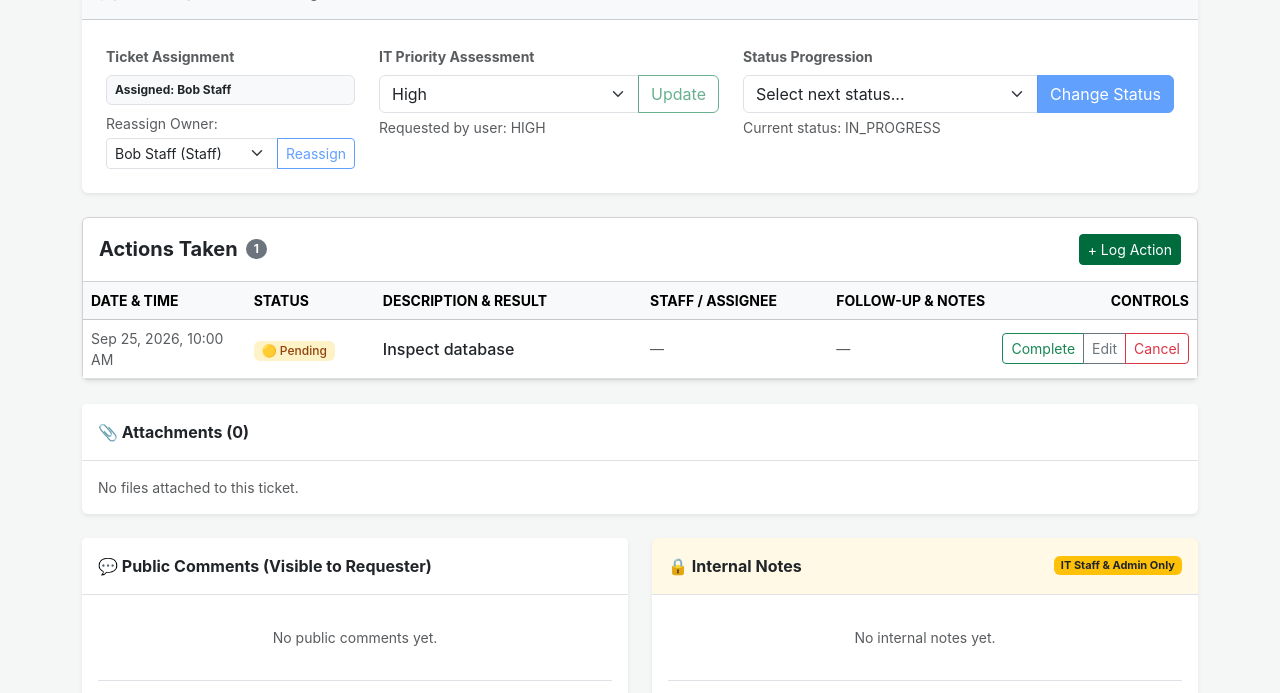
Test case: Phase F2 / L4-P06: Ticket Workflow UI Tests (UI-L4-09, UI-L4-10) › UI-L4-17: complete success remains visible after ticket reload
(page scrolled)
Click the button with test id "complete-action-btn-9": click(1043, 349) 1002,333 -> 1084,364
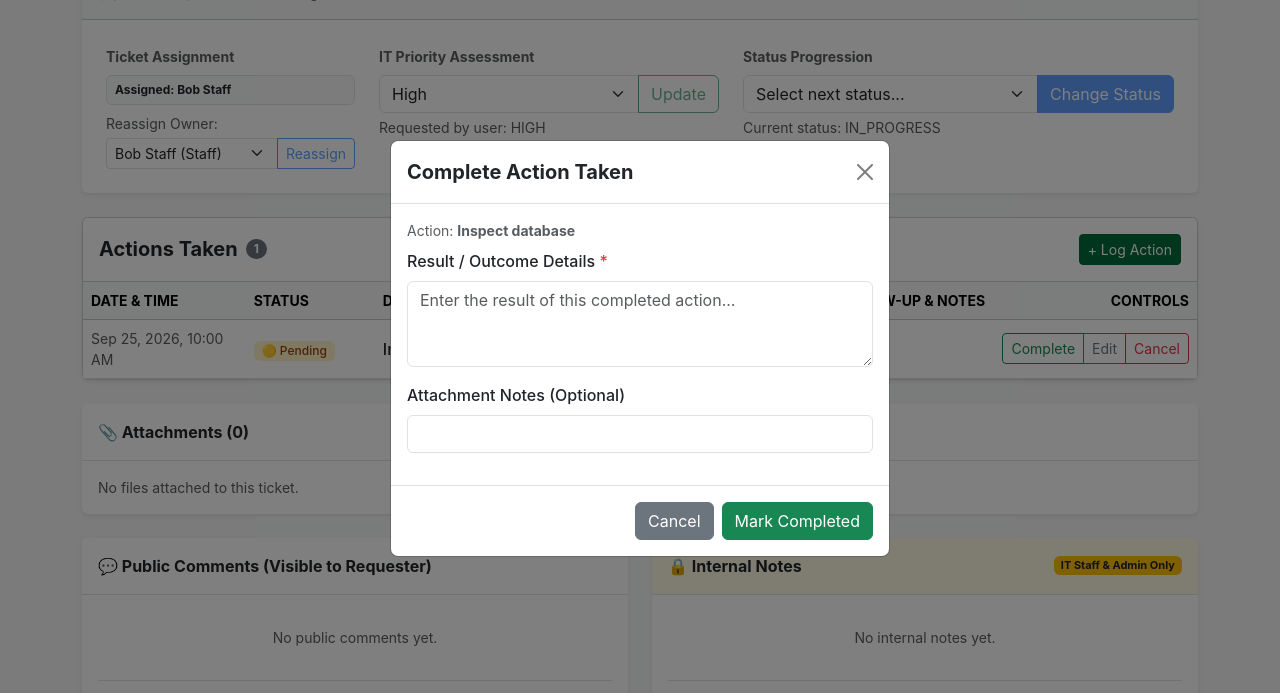
In the text box labelled "Result / Outcome Details *": (640, 324) 407,280 -> 873,366, type "Healthy"
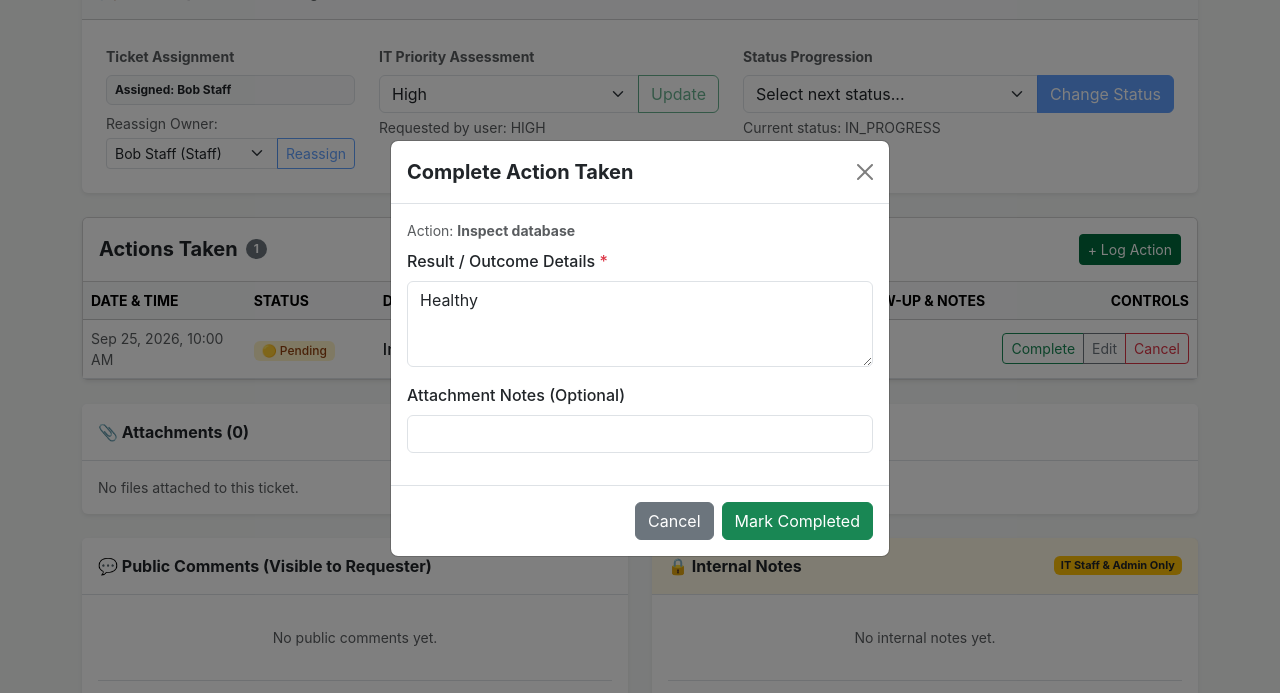
Click the button "Mark Completed": click(797, 520) 722,502 -> 873,540
(page scrolled)
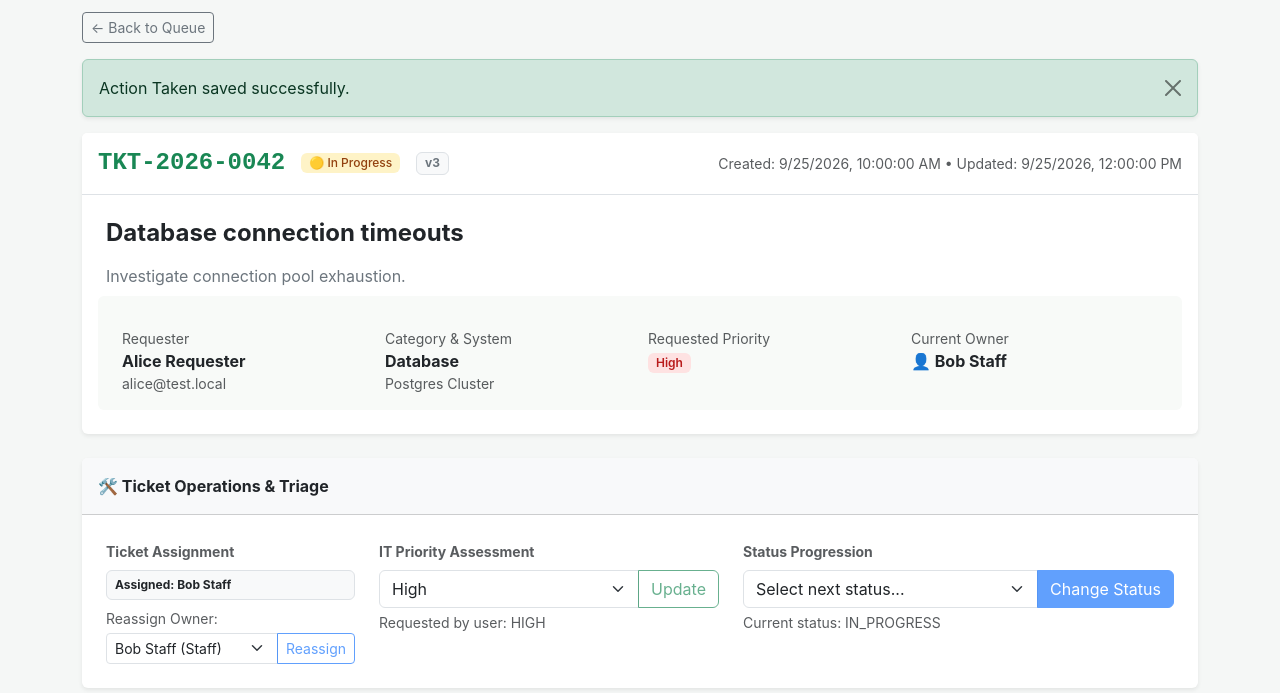
expect the text "Action Taken saved successfully." is shown: met, box 82,59 -> 1198,117
